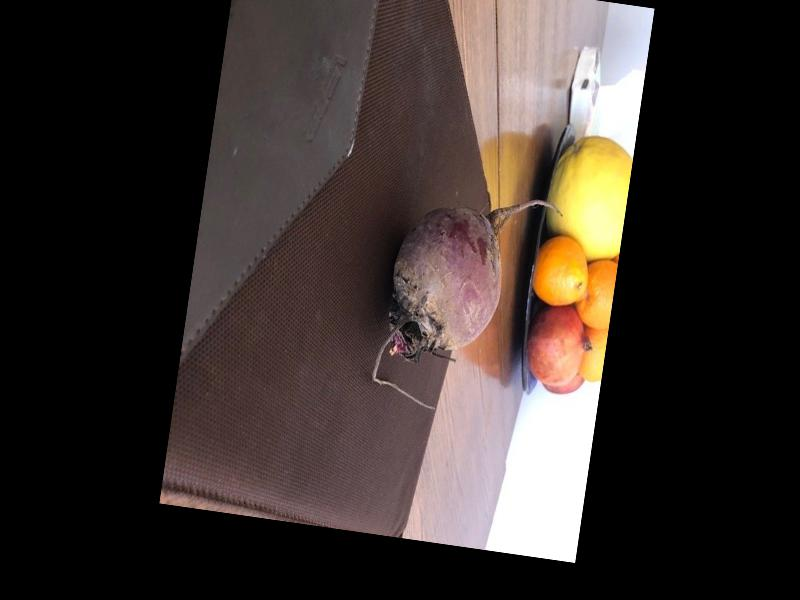Beet: (368, 178, 565, 424)
